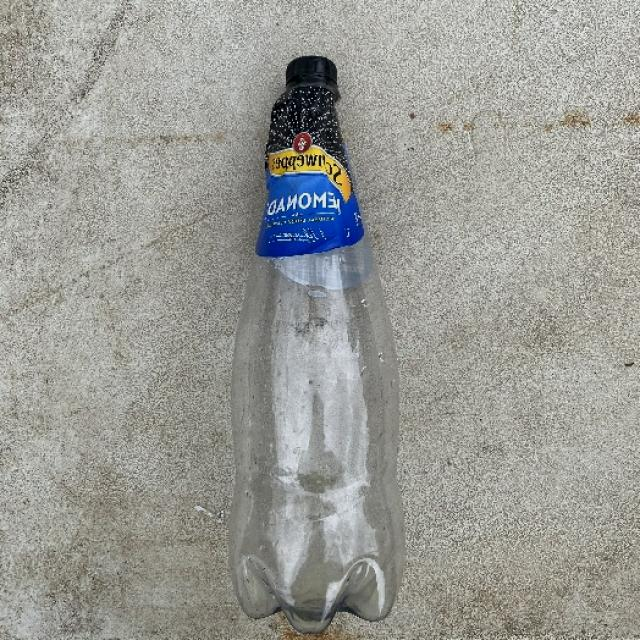inorganic: (224, 48, 397, 639)
